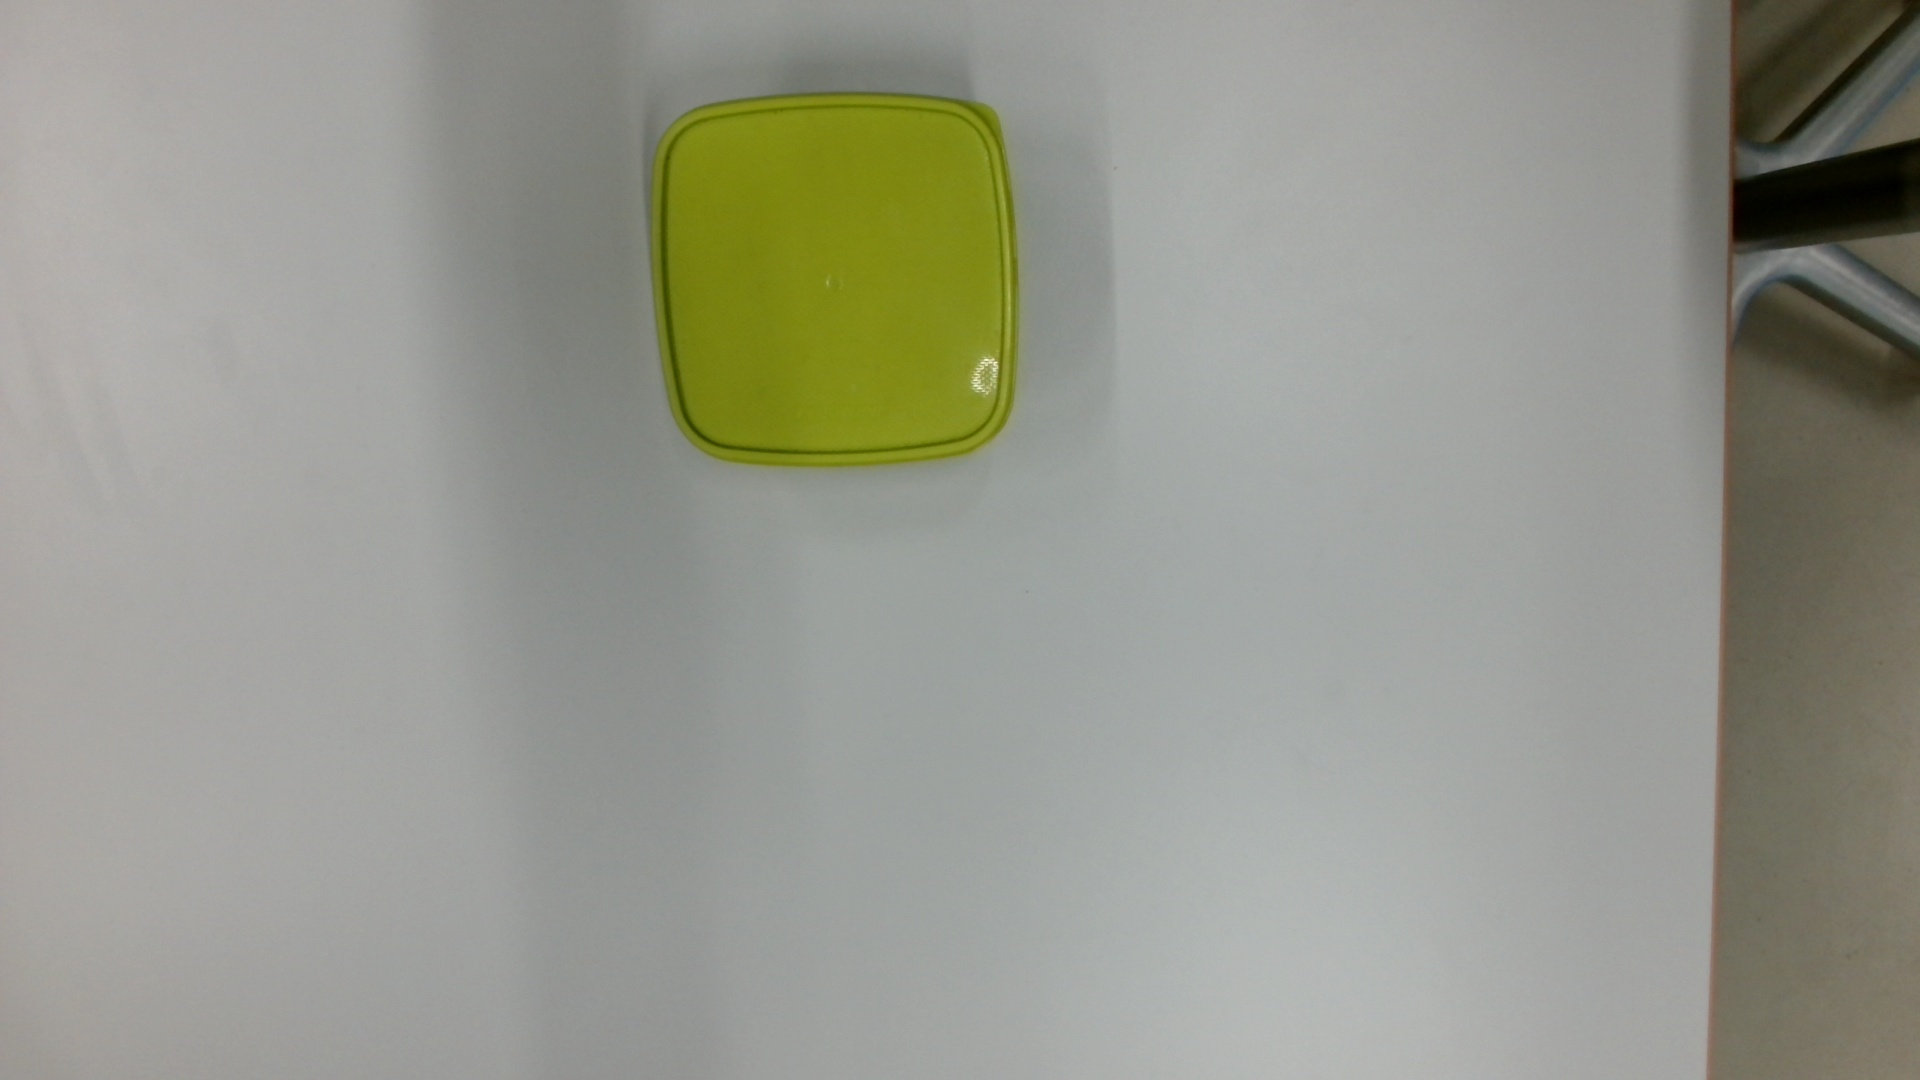Box: (640, 83, 1033, 477)
